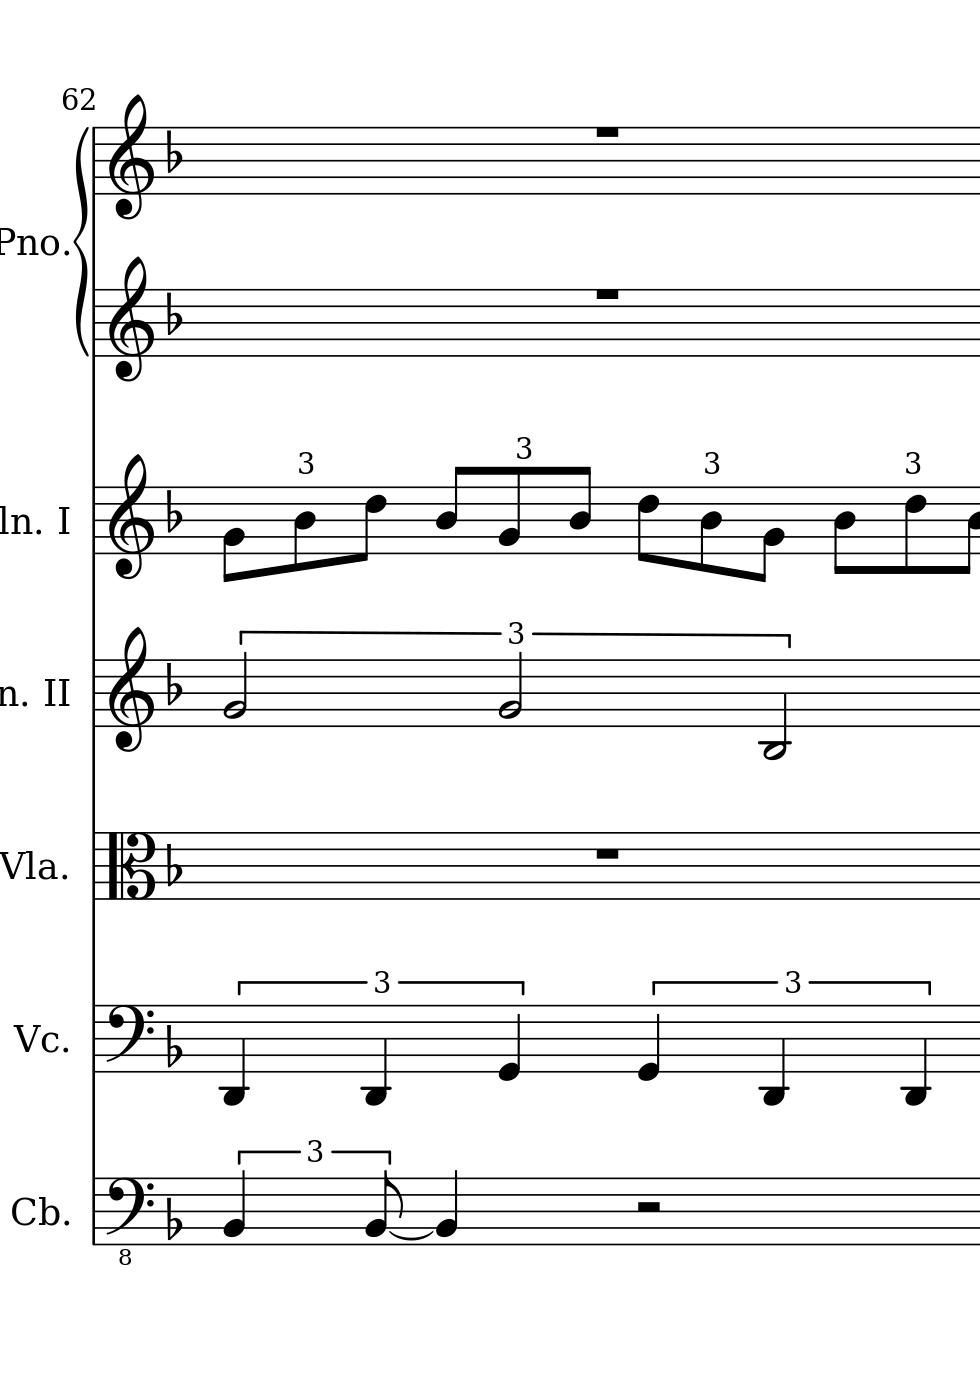2: (78, 85, 97, 112)
2_-3: (760, 657, 791, 762)
2_2: (223, 650, 249, 727), (498, 650, 524, 729)
3: (508, 618, 527, 650), (783, 968, 803, 997), (304, 1136, 323, 1164), (514, 434, 532, 462), (297, 450, 314, 477), (703, 450, 720, 477), (373, 968, 390, 996), (904, 450, 921, 476)
4_-3: (361, 1001, 390, 1109), (759, 1001, 788, 1110), (220, 1001, 248, 1109), (902, 1001, 929, 1109)
4_0: (496, 1003, 522, 1084), (636, 1003, 661, 1084)
4_2: (221, 1169, 246, 1247), (434, 1169, 459, 1247)
6: (62, 85, 78, 112)
8_2: (752, 485, 784, 585), (363, 1169, 403, 1246), (220, 485, 246, 585), (496, 464, 522, 556)
8_4: (433, 464, 467, 556), (697, 485, 722, 574), (567, 464, 592, 557), (832, 485, 856, 577), (291, 485, 316, 573)
8_6: (353, 485, 386, 565), (902, 484, 927, 578), (634, 485, 660, 566)
Brace: (71, 122, 90, 356)
Cb: (8, 1192, 60, 1233)
Cclef: (104, 830, 156, 900)
Fclef: (103, 1004, 154, 1075)
Flat: (163, 842, 188, 891), (163, 128, 183, 176), (163, 290, 183, 337), (163, 487, 183, 534), (163, 660, 183, 706), (163, 1195, 183, 1242), (163, 1022, 183, 1068)
Gclef: (105, 255, 155, 385), (105, 452, 154, 583), (106, 92, 156, 221), (106, 625, 153, 755)
Lower_Fclef: (104, 1175, 155, 1265)
Rests1: (590, 284, 623, 305), (591, 121, 623, 141), (591, 844, 623, 864)
Rests2: (634, 1199, 663, 1215)
Single_barline: (86, 832, 104, 901), (87, 487, 103, 555), (86, 1005, 102, 1073), (87, 659, 102, 729), (87, 127, 102, 195), (88, 290, 102, 357), (87, 1178, 101, 1245)
Slur: (387, 1229, 435, 1242)
Vc: (11, 1019, 62, 1058)
Vla: (1, 845, 59, 889)
